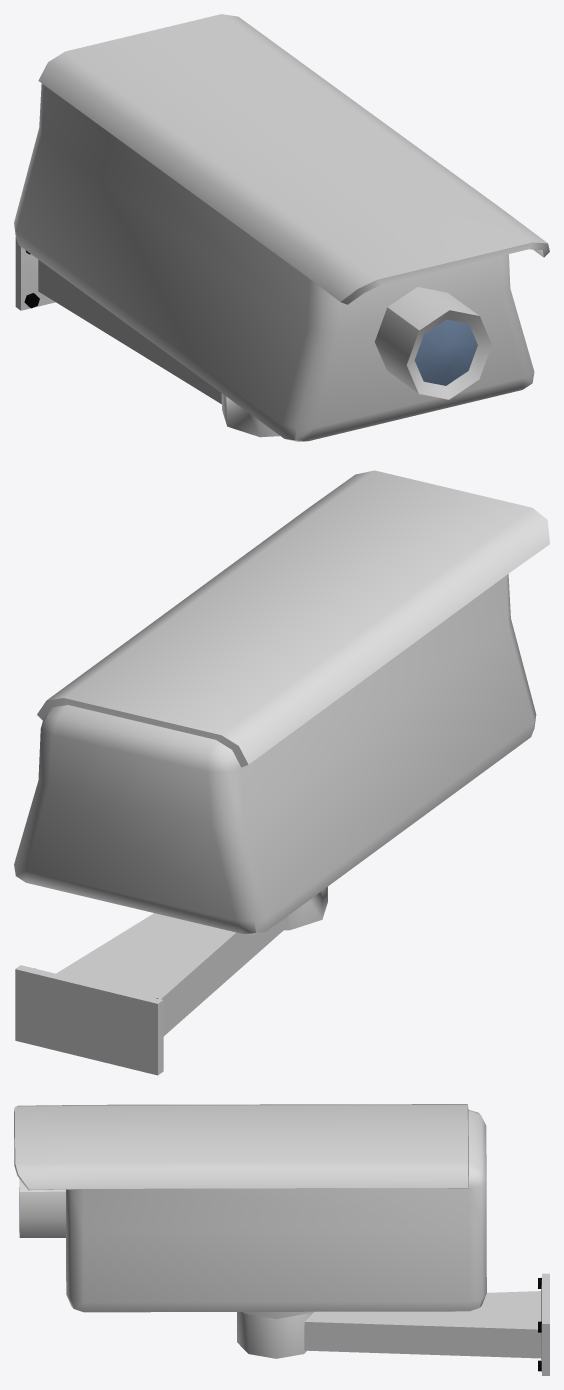
File: security_camera.fbx
3 views of the same model, one above another, from view 1: azimuth 30°, elevation 25°; view 2: azimuth 150°, elevation 25°; view 3: azimuth 270°, elevation 25° (orthographic). The views are drawn at different scales.
Parts seen in each view (by area): view 1: VintageSecurityCamera_Camera, VintageSecurityCamera; view 2: VintageSecurityCamera_Camera, VintageSecurityCamera; view 3: VintageSecurityCamera_Camera, VintageSecurityCamera.
Part boxes in pixels (x1=…): VintageSecurityCamera_Camera: x1=14, y1=14, x2=549, y2=441; VintageSecurityCamera: x1=15, y1=237, x2=279, y2=437; VintageSecurityCamera_Camera: x1=14, y1=470, x2=549, y2=934; VintageSecurityCamera: x1=15, y1=886, x2=327, y2=1075; VintageSecurityCamera_Camera: x1=14, y1=1104, x2=486, y2=1318; VintageSecurityCamera: x1=237, y1=1273, x2=549, y2=1375.
Size of the model in its own units: 0.2413 by 0.2724 by 0.6081.
